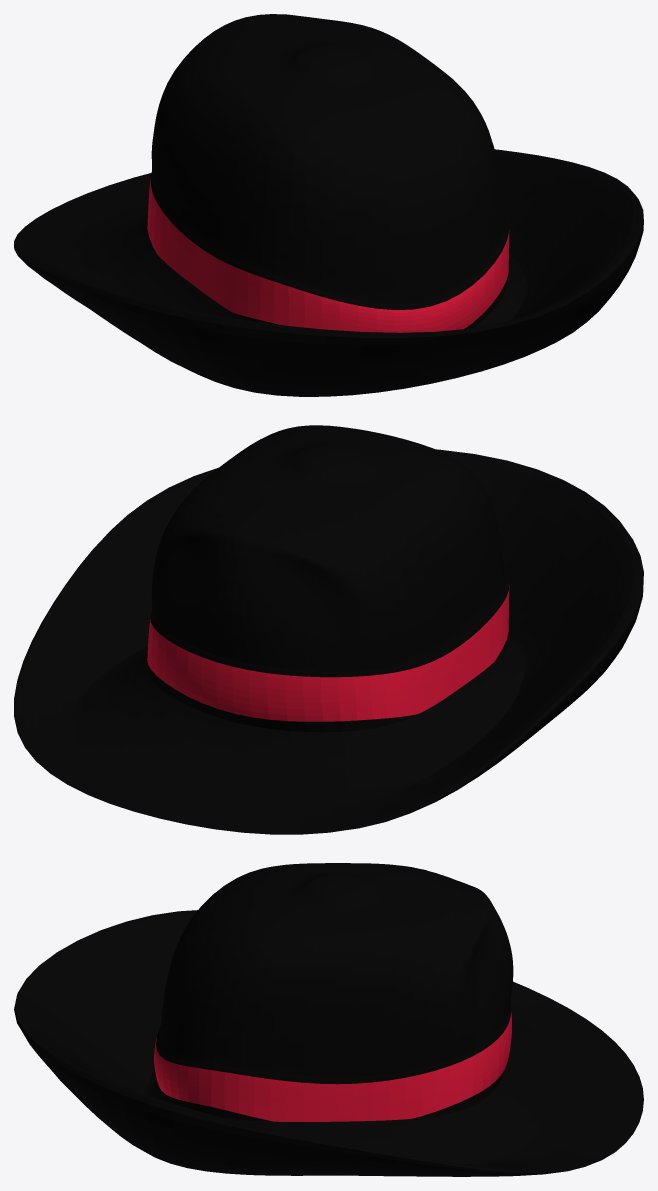
Rendered from chapeu_10.fbx.
3 renders of one model, top to bottom at view 1: azimuth 30°, elevation 25°; view 2: azimuth 150°, elevation 25°; view 3: azimuth 270°, elevation 25°, orthographic. The views are drawn at different scales.
Visible parts, largest first — view 1: chapeu 10; view 2: chapeu 10; view 3: chapeu 10.
Part boxes in pixels (x1,y1,x2,y2): chapeu 10: [14, 14, 643, 396]; chapeu 10: [14, 425, 643, 834]; chapeu 10: [14, 863, 643, 1176].
Size of the model in its own units: 541 by 253 by 655.
